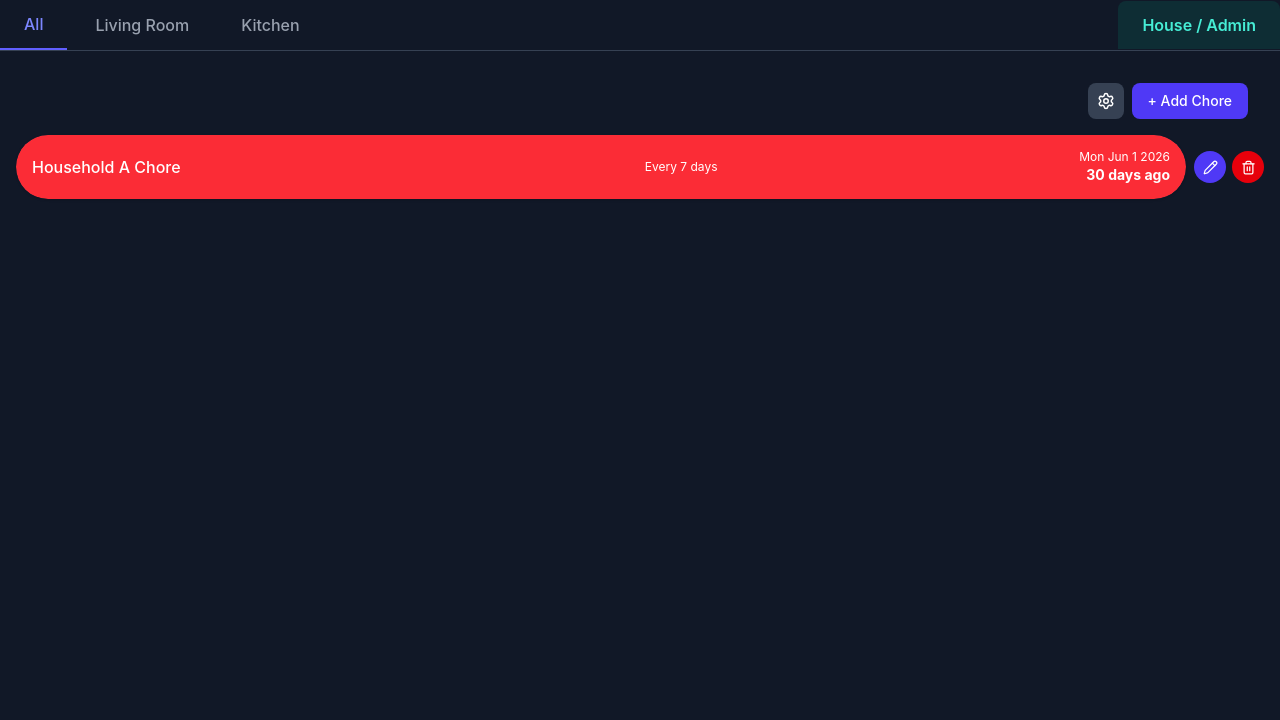
Test: App › multi-household membership › switching households on the Household admin page sends the new X-Household-Id header and swaps the chore list to the other household
Expected: the text "Household A Chore" is shown, x1=32 y1=157 x2=181 y2=177
Click the link with test id "admin-nav-link" at [1199, 25], box x1=1118 y1=1 x2=1279 y2=49
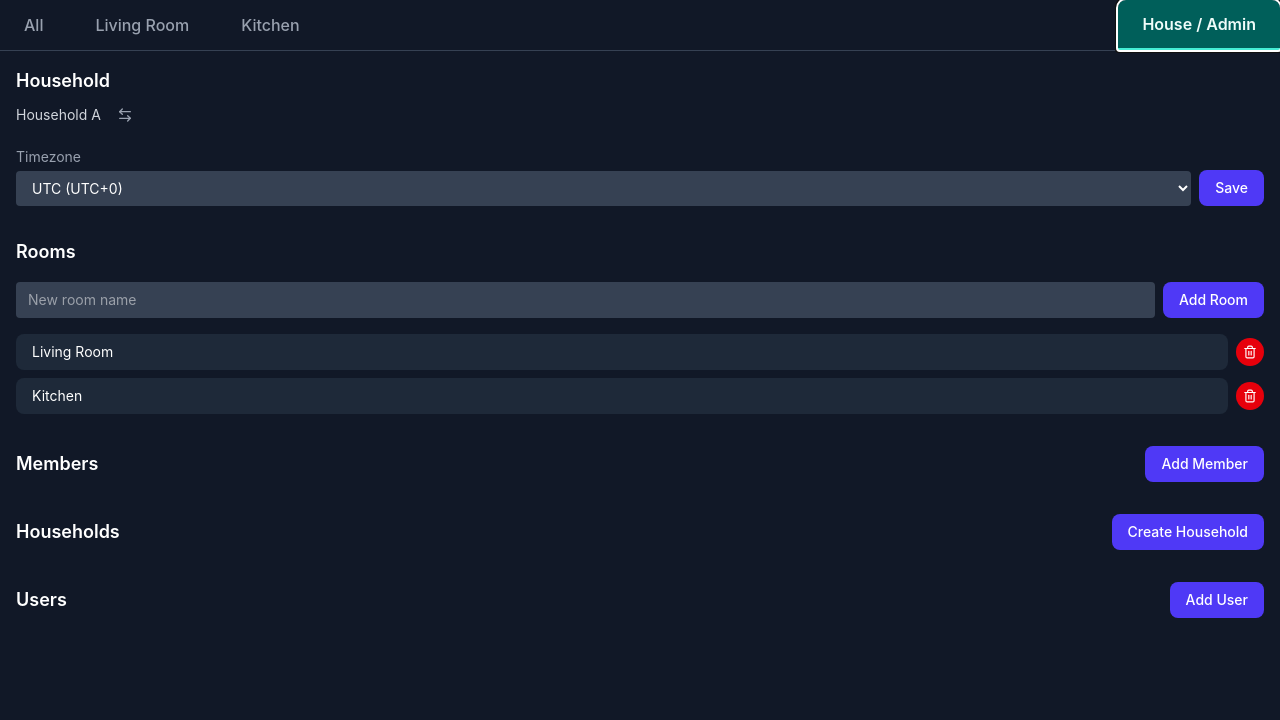
Click the button named "Switch household" at [125, 115], box x1=109 y1=99 x2=141 y2=131
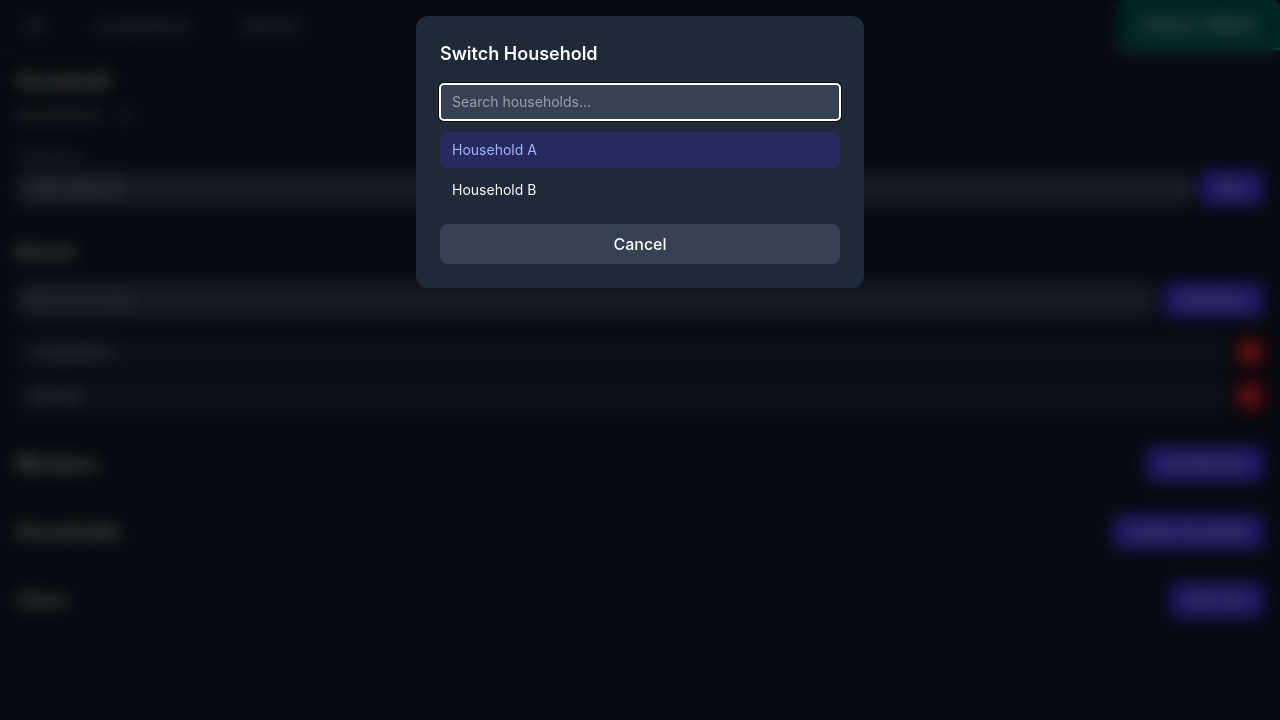
Click the button "Household B" at [494, 190], box x1=440 y1=172 x2=840 y2=208
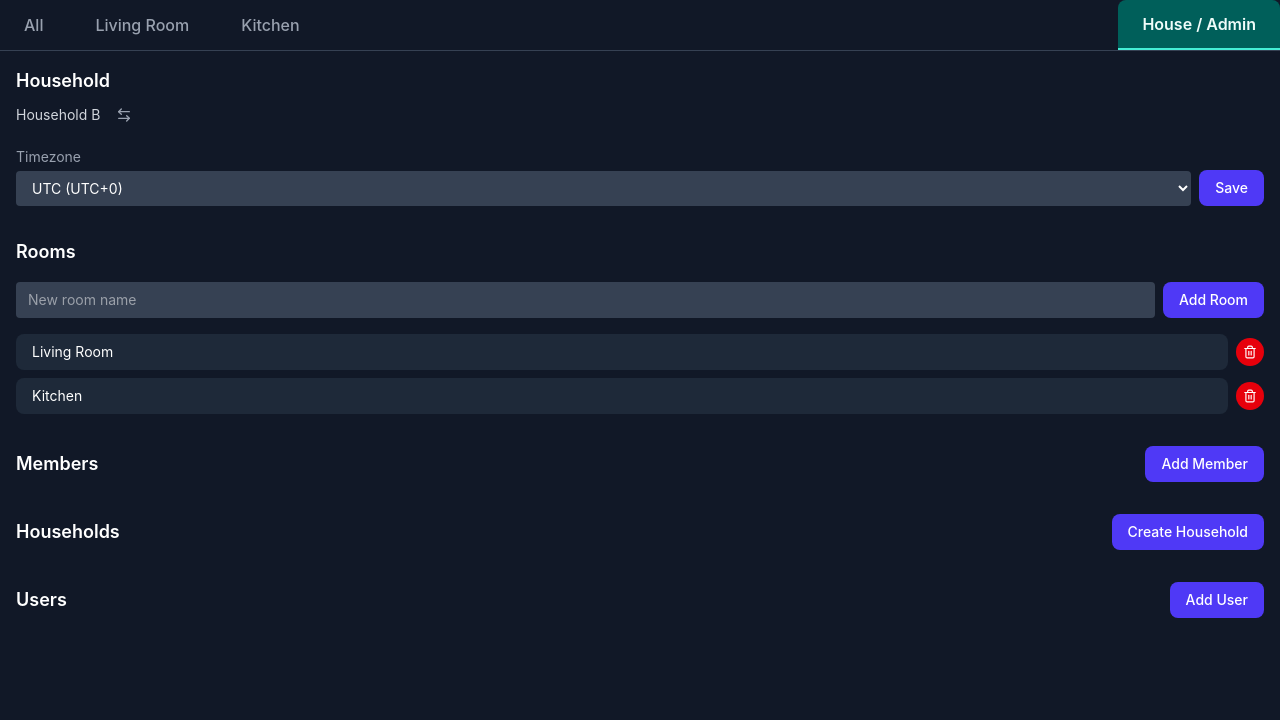
Click the button "All" at [34, 25], box x1=0 y1=1 x2=67 y2=49
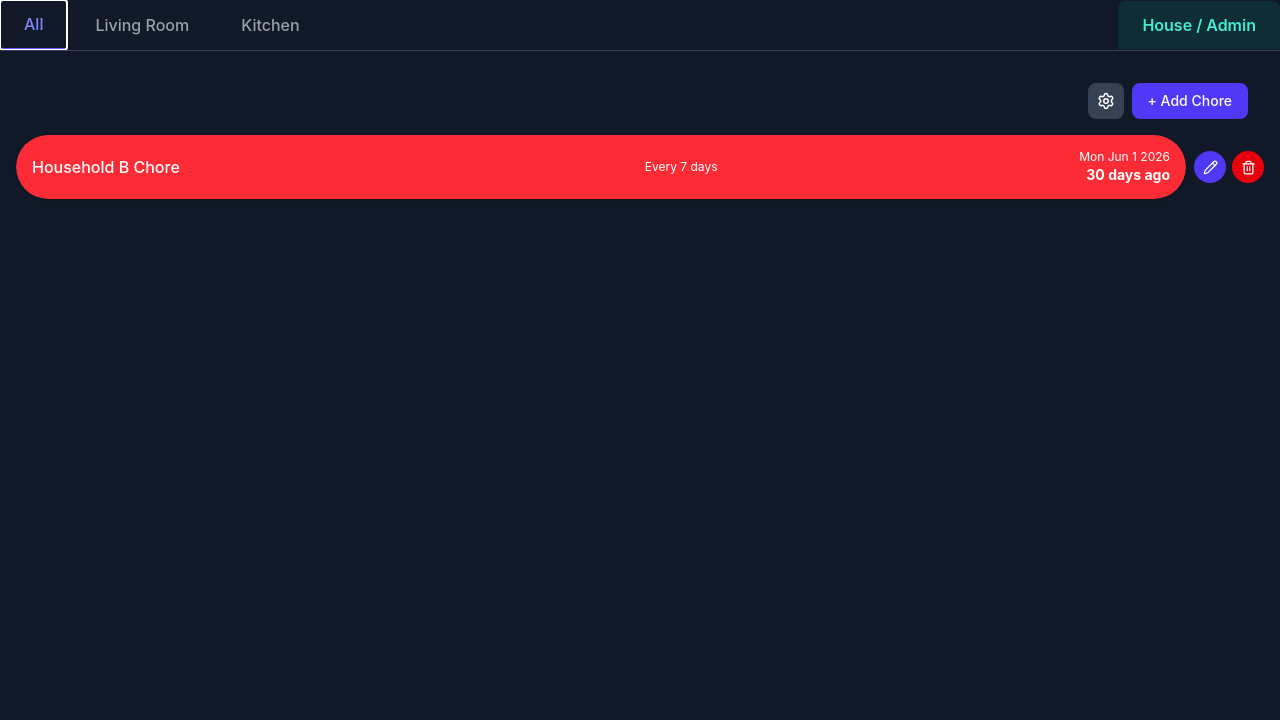
Expected: the text "Household A Chore" is not shown
Expected: the text "Household B Chore" is shown, x1=32 y1=157 x2=180 y2=177
